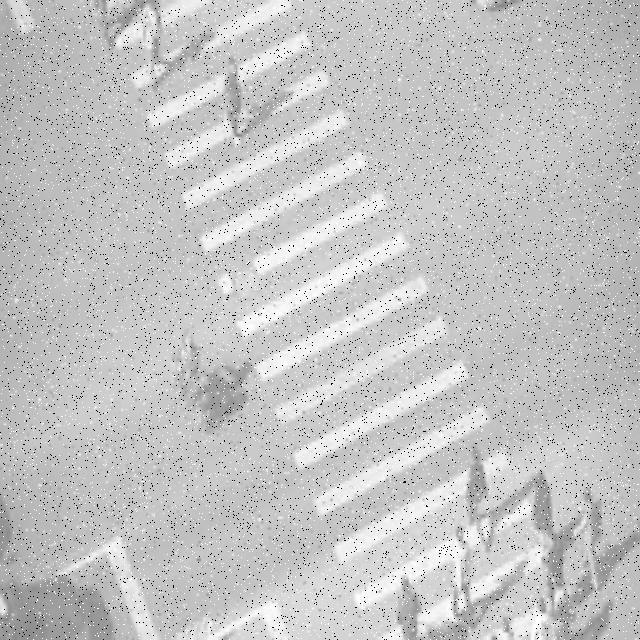crosswalk: (103, 1, 538, 625)
